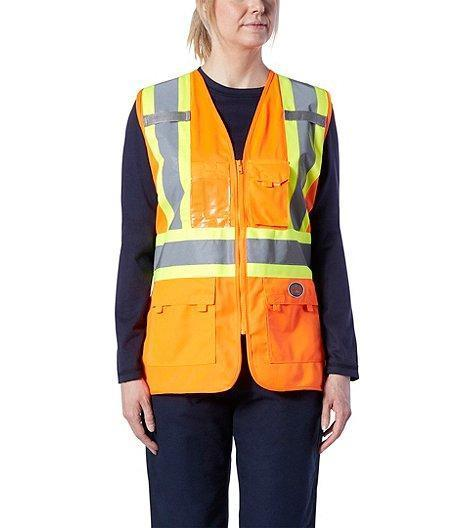vest: (131, 67, 334, 395)
